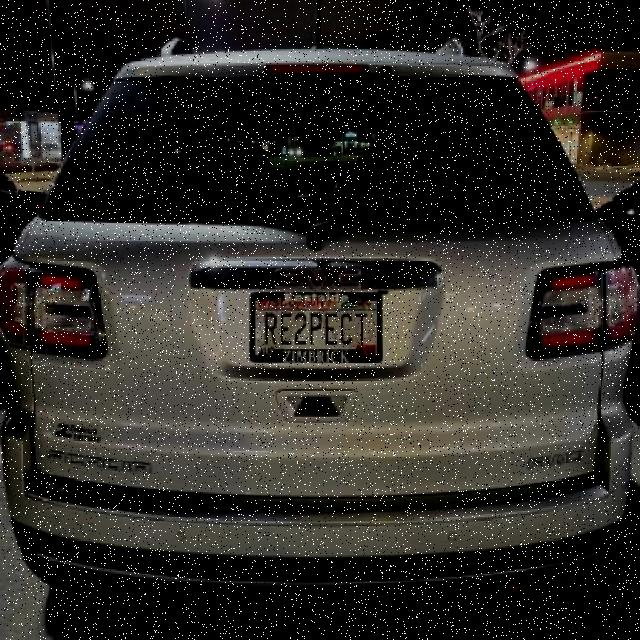licenseplate: (248, 292, 383, 364)
